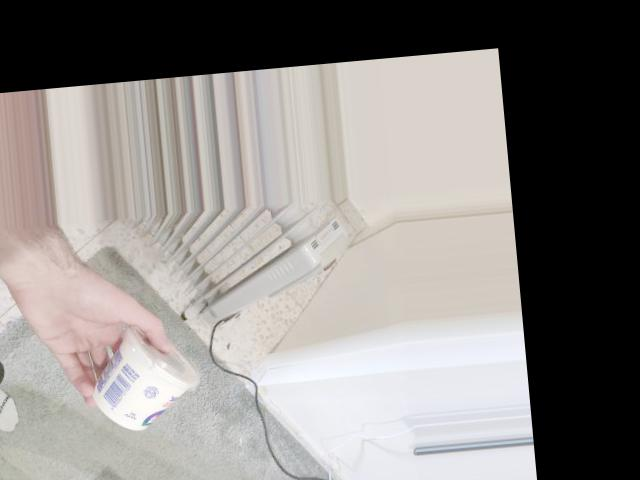cotage: (81, 318, 207, 435)
